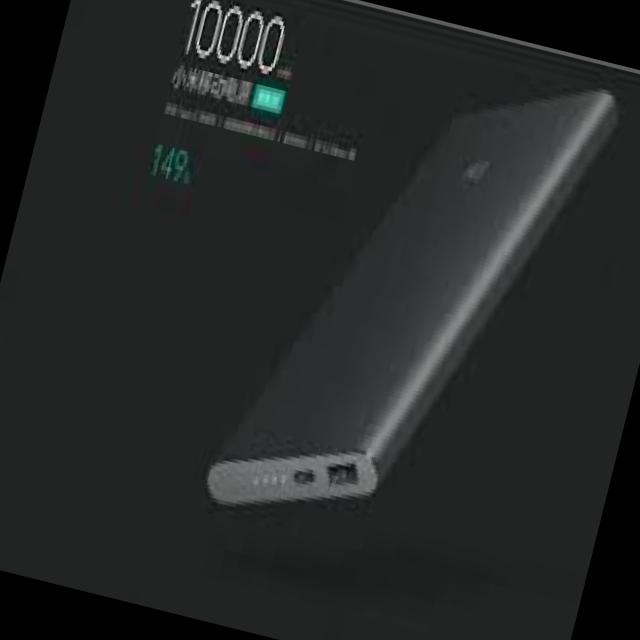portable-charger: (191, 15, 622, 579)
